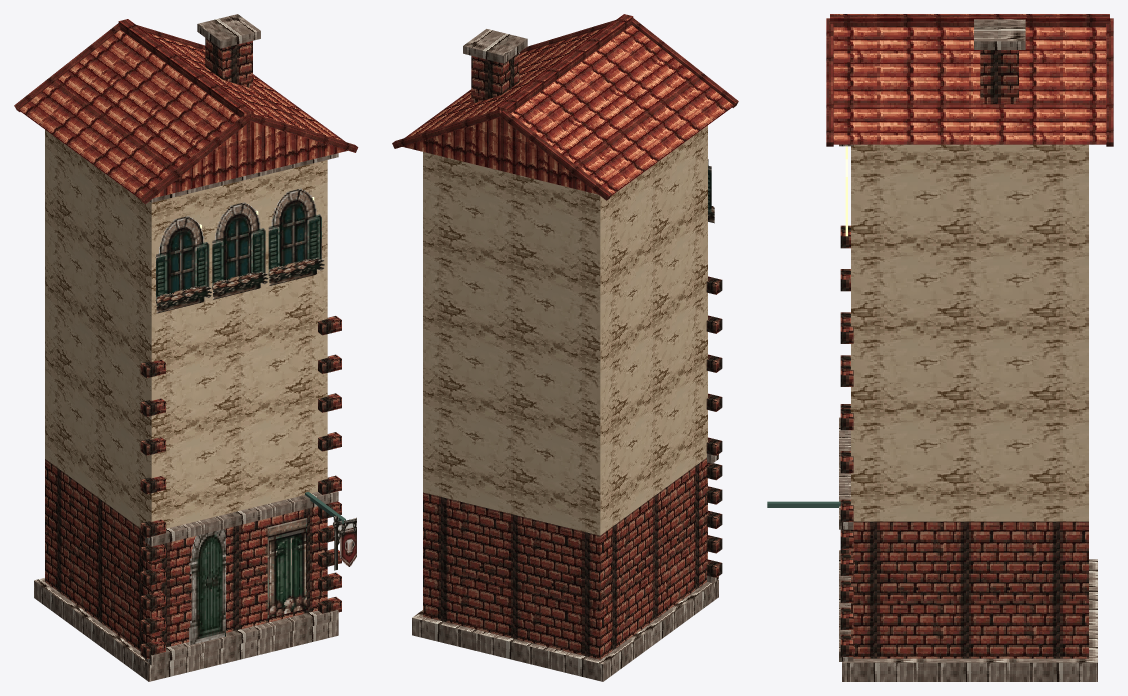
Rendered from tower.glb.
3 views of the same model, side by side, from view 1: azimuth 30°, elevation 25°; view 2: azimuth 150°, elevation 25°; view 3: azimuth 270°, elevation 25° (orthographic). The views are drawn at different scales.
Parts seen in each view (by area): view 1: tower_p9_plaster, tower_p9_roof, tower_p9_brick, tower_p9_stone, tower_p9_window_arch, tower_p9_door_green, tower_p9_window_shutter, tower_p9_flowerbox, tower_p9_sign_banner; view 2: tower_p9_plaster, tower_p9_brick, tower_p9_roof, tower_p9_stone; view 3: tower_p9_plaster, tower_p9_brick, tower_p9_roof, tower_p9_stone.
Boxes of the visible parts, bbox=[...] form: tower_p9_plaster: bbox=[45, 130, 327, 528]; tower_p9_roof: bbox=[14, 19, 358, 203]; tower_p9_brick: bbox=[45, 38, 341, 659]; tower_p9_stone: bbox=[34, 14, 338, 681]; tower_p9_window_arch: bbox=[156, 188, 321, 303]; tower_p9_door_green: bbox=[189, 529, 225, 645]; tower_p9_window_shutter: bbox=[267, 518, 306, 617]; tower_p9_flowerbox: bbox=[156, 258, 324, 313]; tower_p9_sign_banner: bbox=[332, 515, 356, 570]; tower_p9_plaster: bbox=[423, 125, 707, 535]; tower_p9_brick: bbox=[423, 53, 722, 659]; tower_p9_roof: bbox=[392, 14, 738, 200]; tower_p9_stone: bbox=[412, 29, 718, 681]; tower_p9_plaster: bbox=[851, 144, 1088, 521]; tower_p9_brick: bbox=[840, 50, 1088, 658]; tower_p9_roof: bbox=[826, 14, 1113, 146]; tower_p9_stone: bbox=[839, 19, 1097, 681].
Size of the model in its own units: 4.66 by 11.68 by 5.81.
Materials: 11 (9 with a texture image).
